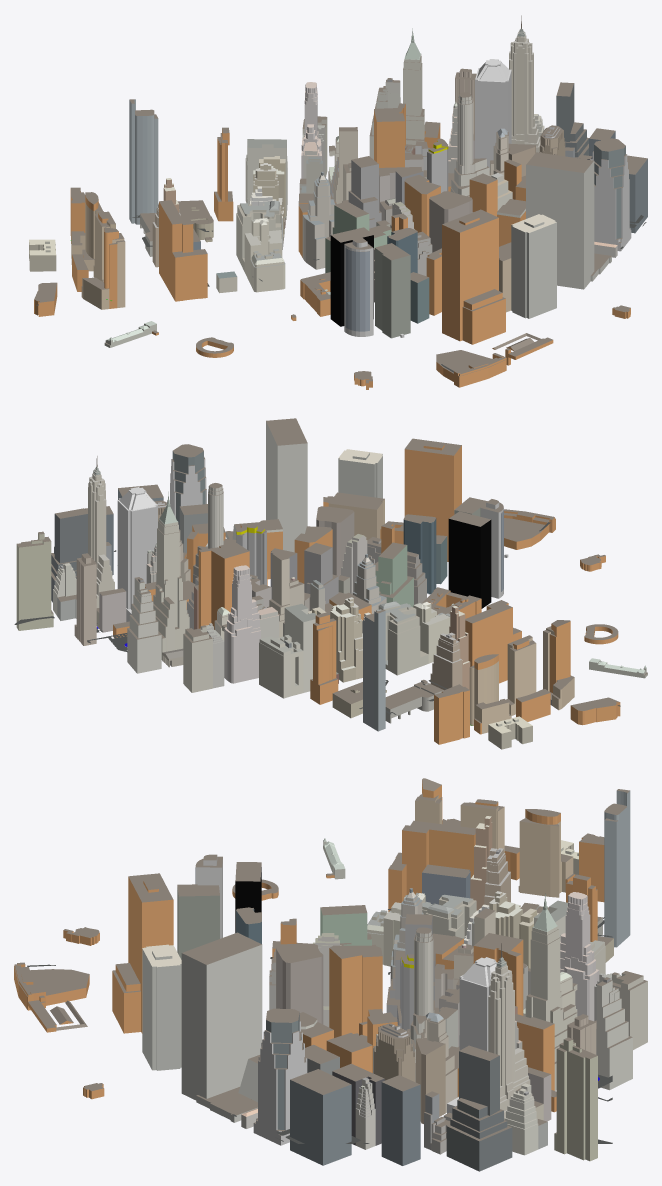
The model's file is buildings_mesh.glb.
The picture shows the model from 3 angles, top to bottom: view 1: azimuth 30°, elevation 25°; view 2: azimuth 150°, elevation 25°; view 3: azimuth 270°, elevation 25°; orthographic projection. The views are drawn at different scales.
Visible parts, largest first — view 1: 55 Water Street, One New York Plaza, 125 Broad Street, One Financial Square, 50 West Street, One State Street Plaza, element.103, element.009, element.104, Millennium Point, element.008, element (+45 smaller); view 2: 55 Water Street, One New York Plaza, element.179, element.020, One Battery Park Plaza, element.103, element.092, 50 West Street, Cunard Building, element.023, Whitehall Building Annex, The Visionaire (+48 smaller); view 3: 55 Water Street, element.114, 111 Wall Street, One Financial Square, 125 Broad Street, element.092, element.051, element.020, The Visionaire, 50 West Street, One New York Plaza, element.104 (+53 smaller).
Boxes of the visible parts, bbox=[...] form: 55 Water Street: bbox=[526, 152, 611, 289]; One New York Plaza: bbox=[442, 209, 498, 341]; 125 Broad Street: bbox=[511, 214, 556, 318]; One Financial Square: bbox=[592, 138, 631, 251]; 50 West Street: bbox=[129, 99, 158, 224]; One State Street Plaza: bbox=[375, 243, 410, 338]; element.103: bbox=[475, 59, 511, 169]; element.009: bbox=[344, 237, 373, 336]; element.104: bbox=[509, 15, 540, 152]; Millennium Point: bbox=[81, 227, 125, 309]; element.008: bbox=[302, 171, 335, 269]; element: bbox=[450, 92, 489, 196]; 55 Water Street: bbox=[225, 418, 307, 552]; One New York Plaza: bbox=[404, 438, 461, 561]; element.179: bbox=[224, 565, 279, 683]; element.020: bbox=[153, 491, 189, 659]; One Battery Park Plaza: bbox=[448, 511, 491, 608]; element.103: bbox=[117, 487, 157, 621]; element.092: bbox=[16, 531, 53, 630]; 50 West Street: bbox=[363, 609, 385, 731]; Cunard Building: bbox=[376, 601, 428, 675]; element.023: bbox=[127, 577, 161, 673]; Whitehall Building Annex: bbox=[465, 600, 512, 683]; The Visionaire: bbox=[469, 654, 511, 734]; 55 Water Street: bbox=[181, 932, 262, 1122]; element.114: bbox=[446, 1045, 512, 1171]; 111 Wall Street: bbox=[290, 1069, 351, 1165]; One Financial Square: bbox=[253, 1008, 307, 1145]; 125 Broad Street: bbox=[142, 944, 181, 1070]; element.092: bbox=[554, 1037, 597, 1161]; element.051: bbox=[329, 945, 382, 1037]; element.020: bbox=[525, 893, 577, 1090]; The Visionaire: bbox=[518, 809, 575, 897]; 50 West Street: bbox=[604, 789, 630, 947]; One New York Plaza: bbox=[128, 873, 173, 1033]; element.104: bbox=[488, 943, 533, 1119].
Bounding box in the file's own units: 1073 × 308 × 854.
